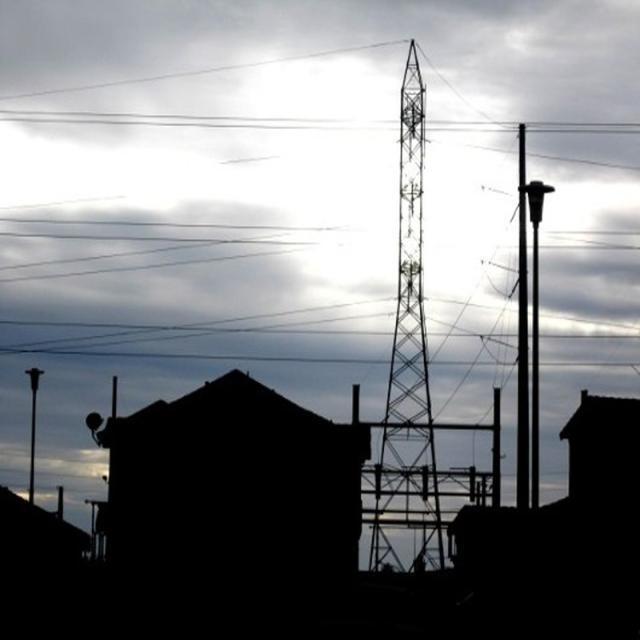non-critical vegetation: (350, 35, 460, 578)
